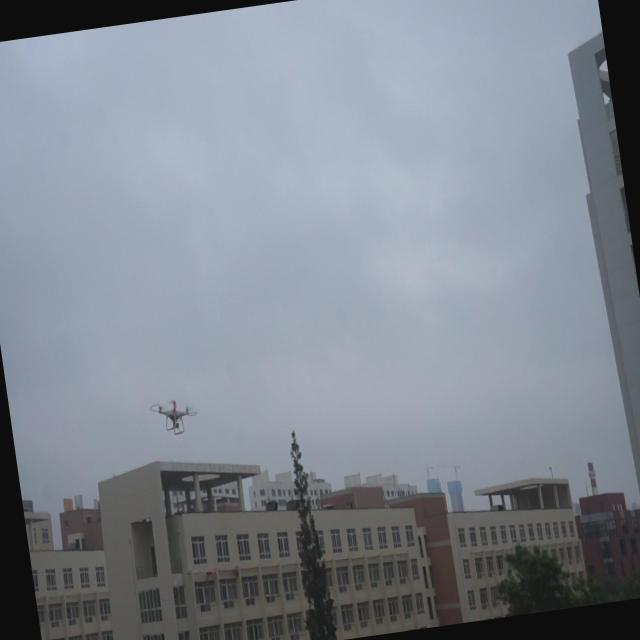drone: (146, 384, 202, 442)
